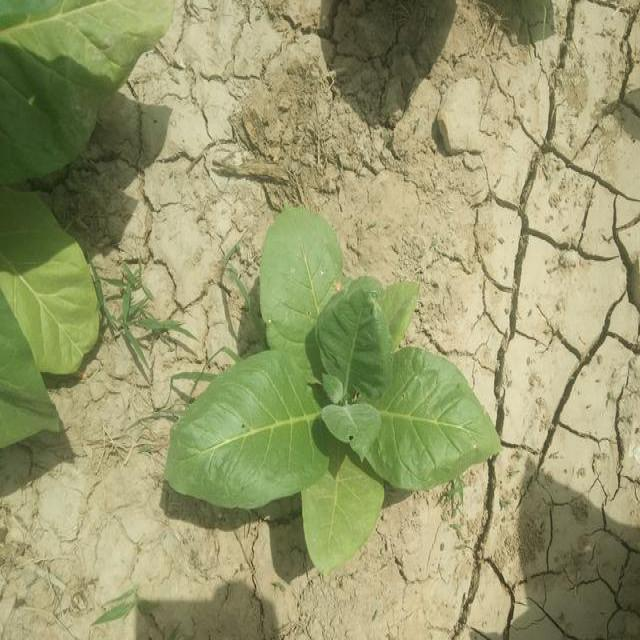crop: (171, 242, 490, 587), (2, 2, 149, 185), (0, 195, 83, 464)
